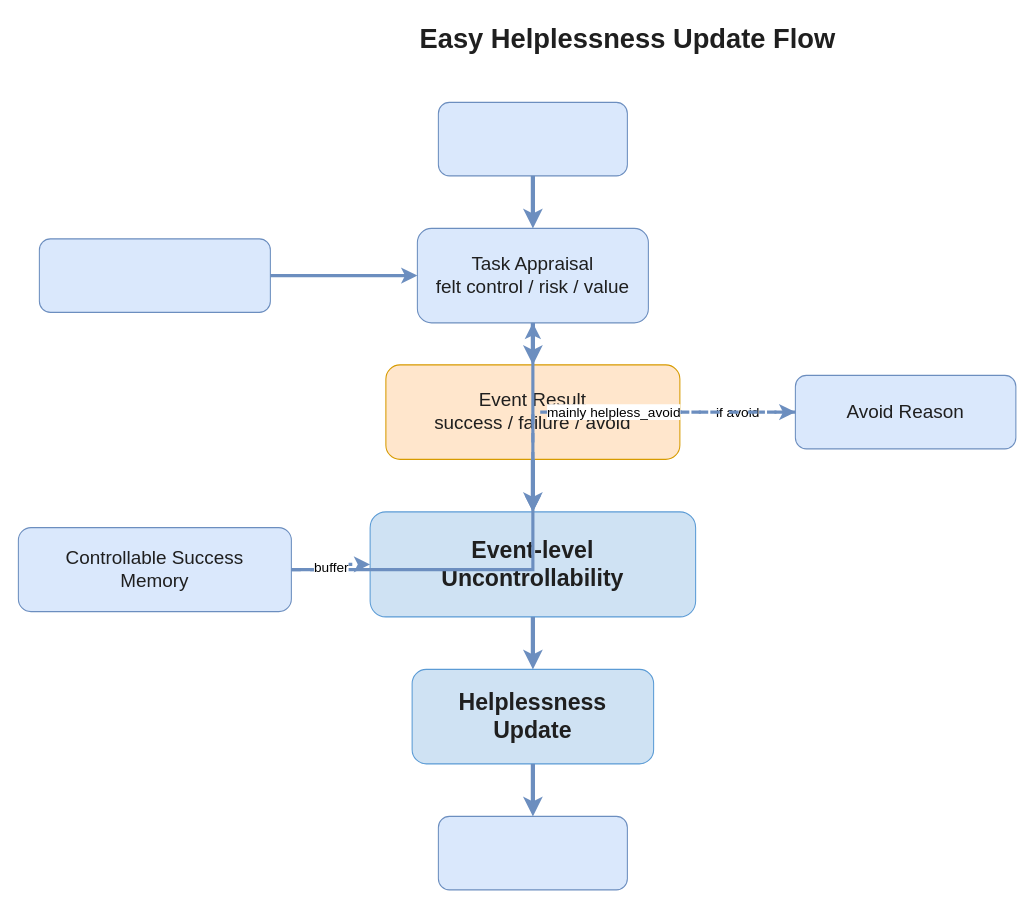
Some shapes in this 1034 by 908 pixel diagram are drawn without their labels. Here are the shapes that lost their labels. From the top down, the centre of each, then its label:
At pixel 532 138: "Digital Task".
At pixel 154 275: "Task Self-Efficacy".
At pixel 532 852: "Next Round".
